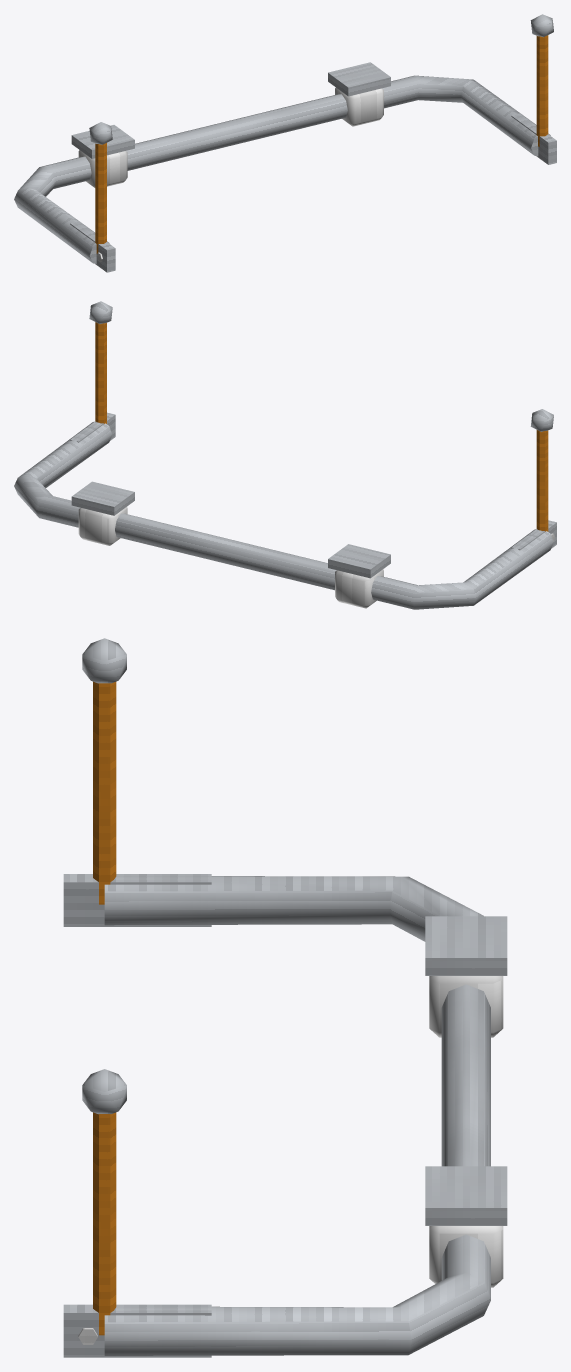
Rendered from barras_n3.glb.
3 views of the same model, one above another, from view 1: azimuth 30°, elevation 25°; view 2: azimuth 150°, elevation 25°; view 3: azimuth 270°, elevation 25° (orthographic). The views are drawn at different scales.
Visible parts, largest first — view 1: barras_n3; view 2: barras_n3; view 3: barras_n3.
Boxes of the visible parts, box(x1,y1,x2,y2) form: barras_n3: box(14, 14, 556, 272); barras_n3: box(14, 301, 556, 609); barras_n3: box(63, 638, 507, 1357).
Size of the model in its own units: 0.652 by 0.1985 by 0.27.
Materials: 3 (3 with a texture image).
